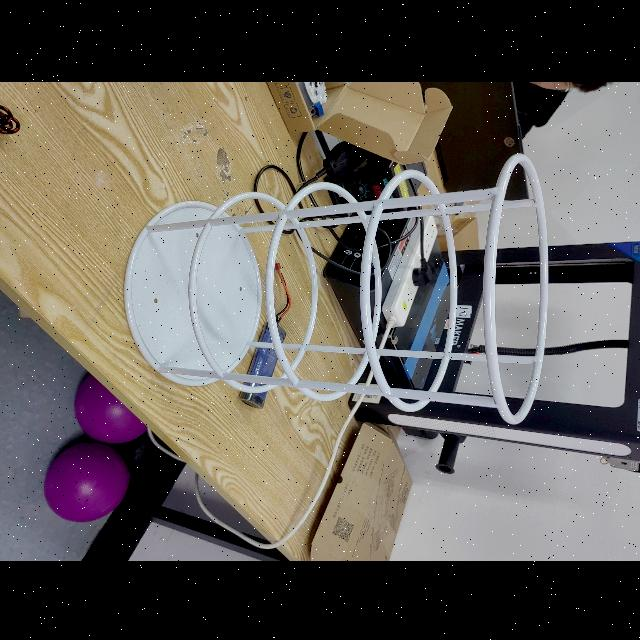S: (114, 151, 554, 429)
